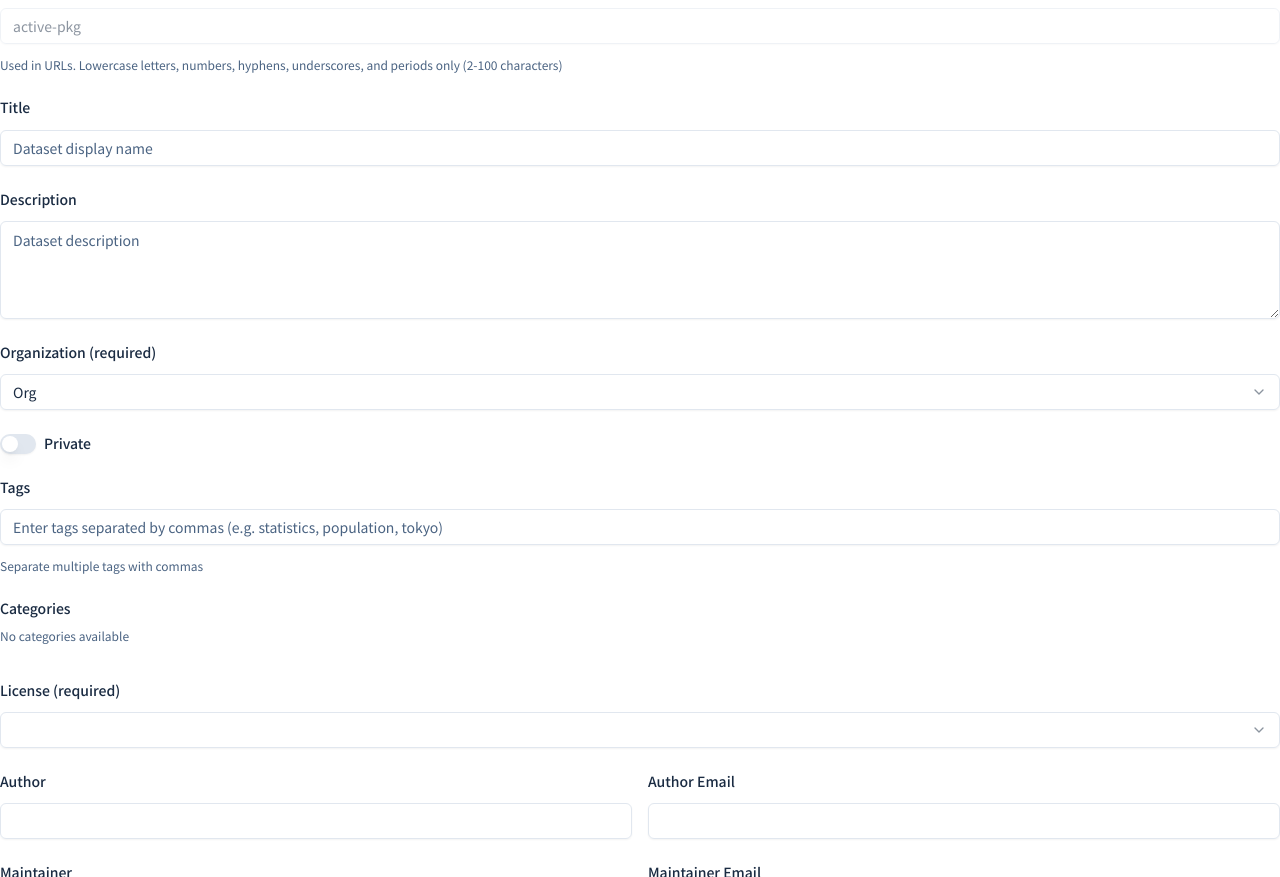
Test case: DatasetForm (draft flows) › edit mode (active) › should label the submit button Save and disable it until a change is made
Type "Changed" into the field labelled "Title" at (640, 148), box left=0, top=130, right=1279, bottom=166
(page scrolled)
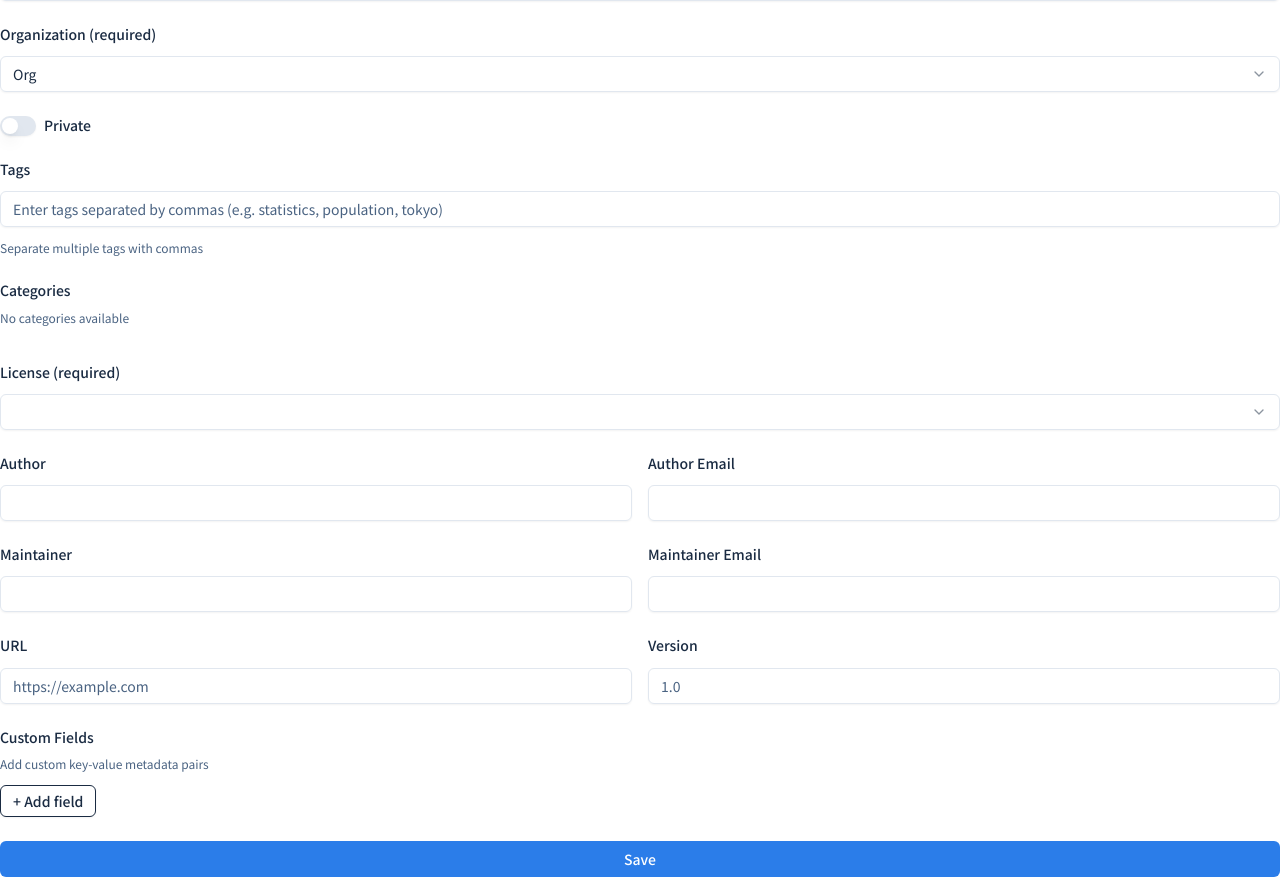
expect the button "Save" is enabled: met, box left=0, top=841, right=1279, bottom=876
